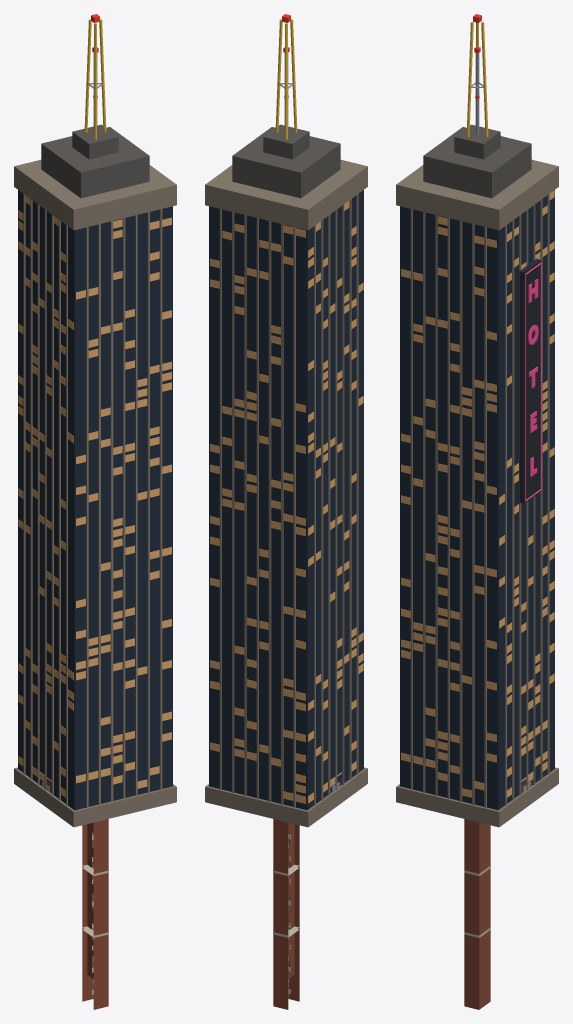
Rendered from Kit.fbx.
The picture shows the model from 3 angles, left to right: view 1: azimuth 30°, elevation 25°; view 2: azimuth 150°, elevation 25°; view 3: azimuth 330°, elevation 25°; orthographic projection.
Visible parts, largest first — view 1: SignTower_Body, SignTower_Fins, SignTower_Lit_Glow, SignTower_Crown, Flue_Wall, RadioMast_Lattice, Facade8A_Wall, Facade4_Wall; view 2: SignTower_Body, SignTower_Fins, SignTower_Lit_Glow, SignTower_Crown, Flue_Wall, RadioMast_Lattice, Facade8A_Wall, Facade4_Wall; view 3: SignTower_Body, SignTower_Fins, SignTower_Lit_Glow, SignTower_Crown, Flue_Wall, SignTower_SignFrame, SignTower_Sign_Glow, RadioMast_Lattice.
Part boxes in pixels (x1,y1,x2,y2): SignTower_Body: [18, 190, 172, 810]; SignTower_Fins: [14, 159, 176, 827]; SignTower_Lit_Glow: [18, 195, 171, 797]; SignTower_Crown: [41, 124, 149, 198]; Flue_Wall: [82, 819, 108, 1009]; RadioMast_Lattice: [84, 19, 106, 139]; Facade8A_Wall: [87, 823, 93, 977]; Facade4_Wall: [90, 822, 93, 978]; SignTower_Body: [209, 190, 363, 810]; SignTower_Fins: [205, 159, 367, 827]; SignTower_Lit_Glow: [210, 201, 363, 803]; SignTower_Crown: [232, 124, 340, 198]; Flue_Wall: [273, 819, 299, 1009]; RadioMast_Lattice: [275, 19, 297, 139]; Facade8A_Wall: [288, 823, 294, 978]; Facade4_Wall: [288, 822, 291, 978]; SignTower_Body: [400, 190, 554, 810]; SignTower_Fins: [396, 159, 558, 827]; SignTower_Lit_Glow: [401, 190, 554, 797]; SignTower_Crown: [423, 124, 531, 198]; Flue_Wall: [464, 819, 490, 1009]; SignTower_SignFrame: [519, 259, 541, 503]; SignTower_Sign_Glow: [525, 262, 541, 501]; RadioMast_Lattice: [466, 21, 488, 137].
Size of the model in its own units: 43.95 by 384 by 42.
